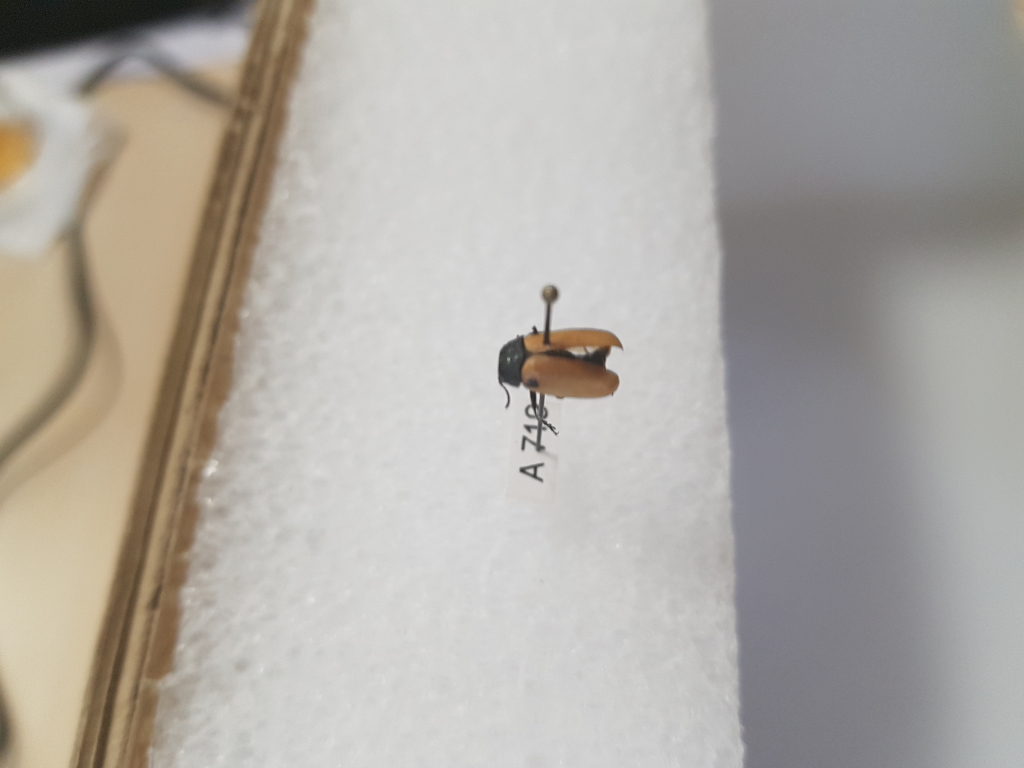Labidostomis_propinqua: (491, 325, 628, 404)
